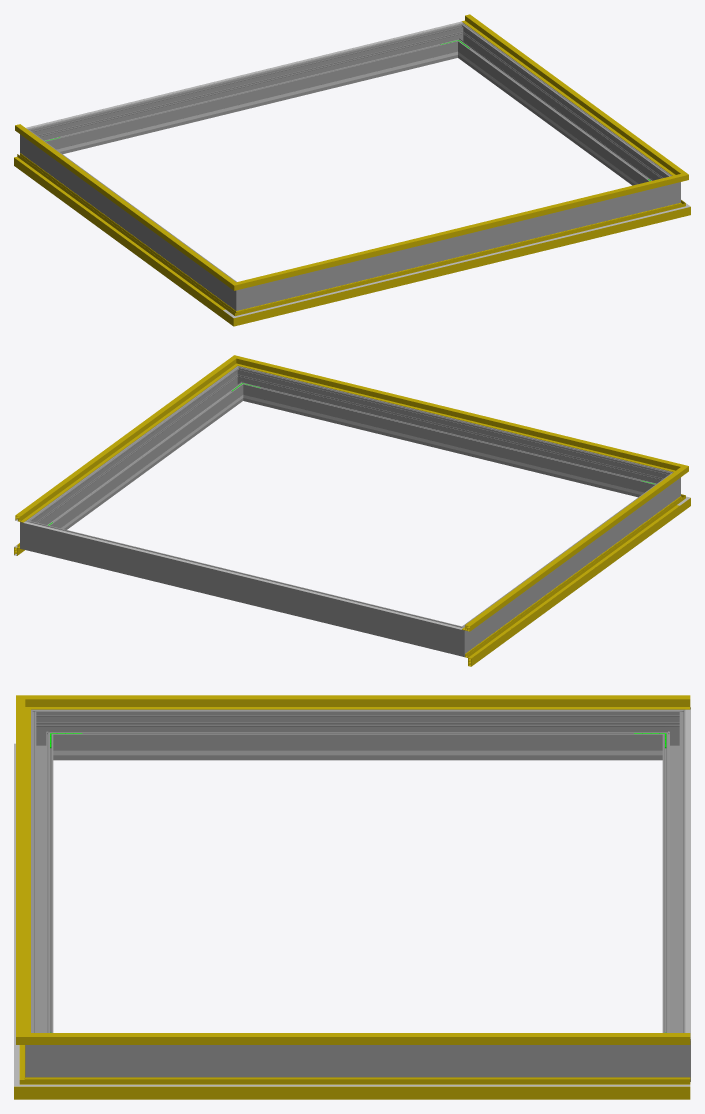
The picture shows the model from 3 angles, top to bottom: view 1: azimuth 30°, elevation 25°; view 2: azimuth 150°, elevation 25°; view 3: azimuth 270°, elevation 25°; orthographic projection. The views are drawn at different scales.
Visible parts, largest first — view 1: 3DGeom-276, 3DGeom-298, 3DGeom-297, 3DGeom-90, 3DGeom-268, 3DGeom-123, 3DGeom-85, 3DGeom-128, 3DGeom-118, 3DGeom-244, 3DGeom-220, 3DGeom-100 (+4 smaller); view 2: 3DGeom-298, 3DGeom-276, 3DGeom-297, 3DGeom-123, 3DGeom-268, 3DGeom-85, 3DGeom-128, 3DGeom-118, 3DGeom-239, 3DGeom-220, 3DGeom-278, 3DGeom-105 (+3 smaller); view 3: 3DGeom-268, 3DGeom-297, 3DGeom-97, 3DGeom-118, 3DGeom-128, 3DGeom-276, 3DGeom-298, 3DGeom-123, 3DGeom-232, 3DGeom-220, 3DGeom-98, 3DGeom-284 (+5 smaller).
Boxes of the visible parts, x1,y1,x2,y2 form: 3DGeom-276: (41,26,454,153); 3DGeom-298: (255,186,661,306); 3DGeom-297: (459,29,666,185); 3DGeom-90: (249,206,671,321); 3DGeom-268: (31,135,231,302); 3DGeom-123: (251,177,669,286); 3DGeom-85: (14,153,228,318); 3DGeom-128: (462,14,677,173); 3DGeom-118: (15,124,227,282); 3DGeom-244: (63,56,439,150); 3DGeom-220: (26,21,462,128); 3DGeom-100: (251,210,671,313); 3DGeom-298: (246,370,659,497); 3DGeom-276: (39,524,448,652); 3DGeom-297: (34,372,241,529); 3DGeom-123: (248,360,669,469); 3DGeom-268: (470,479,669,645); 3DGeom-85: (464,501,679,666); 3DGeom-128: (15,363,231,522); 3DGeom-118: (462,473,677,631); 3DGeom-239: (261,399,637,493); 3DGeom-220: (23,521,462,629); 3DGeom-278: (445,621,475,656); 3DGeom-105: (468,505,679,658); 3DGeom-268: (59,709,656,760); 3DGeom-297: (59,1045,656,1077); 3DGeom-97: (48,1077,690,1099); 3DGeom-118: (50,695,690,709); 3DGeom-128: (50,1033,690,1044); 3DGeom-276: (662,721,685,1032); 3DGeom-298: (31,721,53,1032); 3DGeom-123: (16,709,30,1030); 3DGeom-232: (86,750,629,755); 3DGeom-220: (685,709,690,1038); 3DGeom-98: (48,1084,690,1086); 3DGeom-284: (657,1027,690,1081).
Bounding box in the file's own units: 3.66 × 0.3069 × 3.05.
